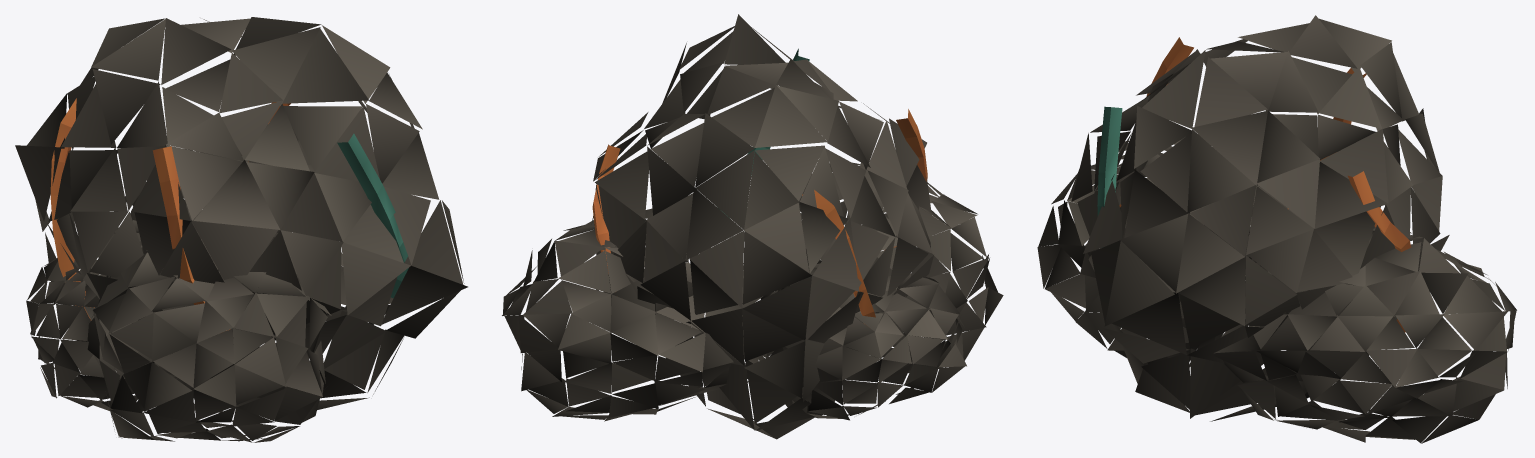
The model's file is standard-lod1.glb.
The picture shows the model from 3 angles, left to right: view 1: azimuth 30°, elevation 25°; view 2: azimuth 150°, elevation 25°; view 3: azimuth 270°, elevation 25°; orthographic projection. The views are drawn at different scales.
Visible parts, largest first — view 1: copper-host-rock, copper-mineral-seams; view 2: copper-host-rock, copper-mineral-seams; view 3: copper-host-rock, copper-mineral-seams.
Part boxes in pixels (x1,y1,x2,y2): copper-host-rock: [15, 17, 467, 442]; copper-mineral-seams: [50, 98, 408, 332]; copper-host-rock: [502, 14, 1003, 439]; copper-mineral-seams: [592, 48, 927, 325]; copper-host-rock: [1037, 15, 1516, 443]; copper-mineral-seams: [1097, 37, 1411, 332].
Bounding box in the file's own units: 3.05 × 2.8 × 3.21.
